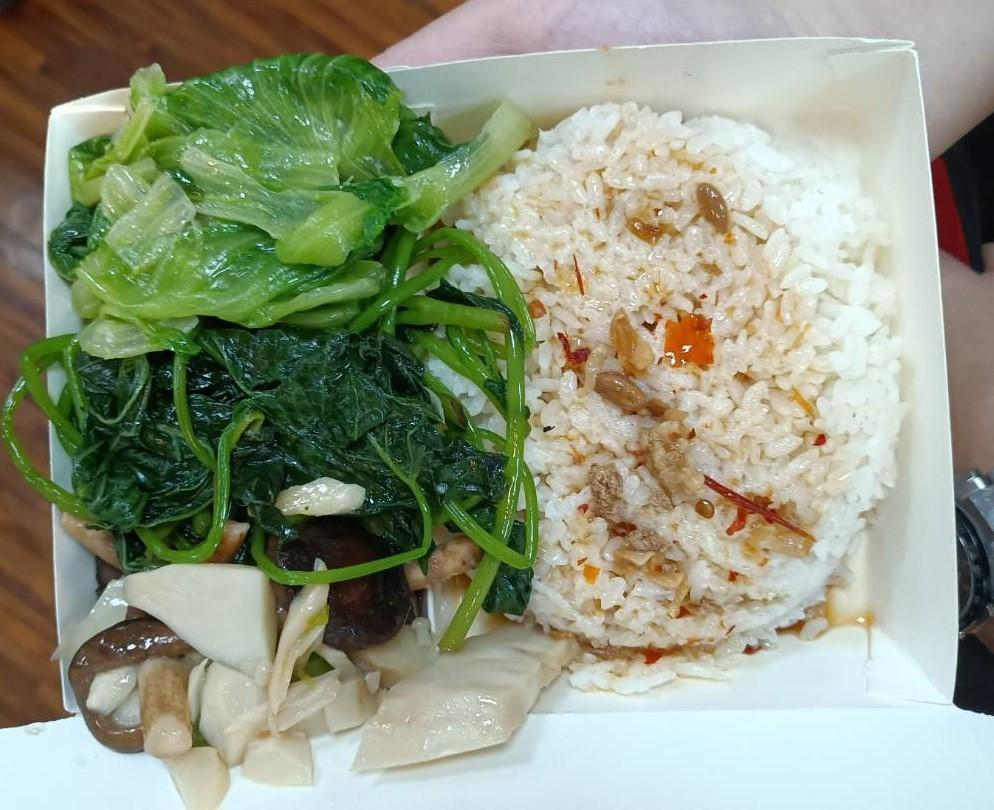big grilled chicken leg: (14, 32, 987, 746)
big herbal chicken leg: (418, 104, 889, 651)
braised fish fillet: (62, 537, 559, 777), (70, 95, 502, 341), (49, 320, 514, 537)
